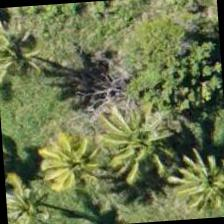Kelapa_Sawit: (83, 98, 180, 194), (25, 117, 120, 213), (162, 131, 223, 221), (3, 159, 64, 223)
